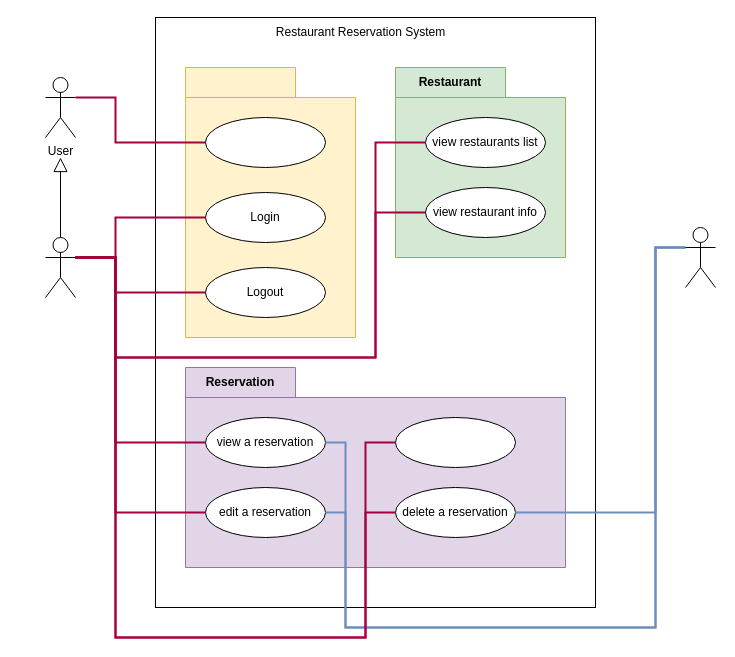
The diagram is 735 pixels wide and 657 high, and some of its shapes have lost their labels. The box of each missing label's shape, as (x1, y1, x2, y2) in pixels:
Admin: (684, 226, 716, 288)
Authentication: (184, 66, 356, 338)
make a reservation: (394, 416, 516, 468)
Register: (204, 116, 326, 168)
Registered User: (44, 236, 76, 298)
